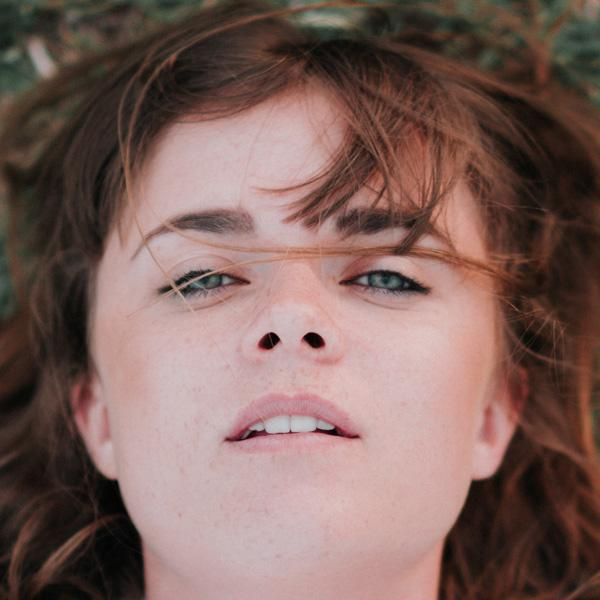Eyes: (332, 245, 439, 314), (148, 247, 253, 314)
